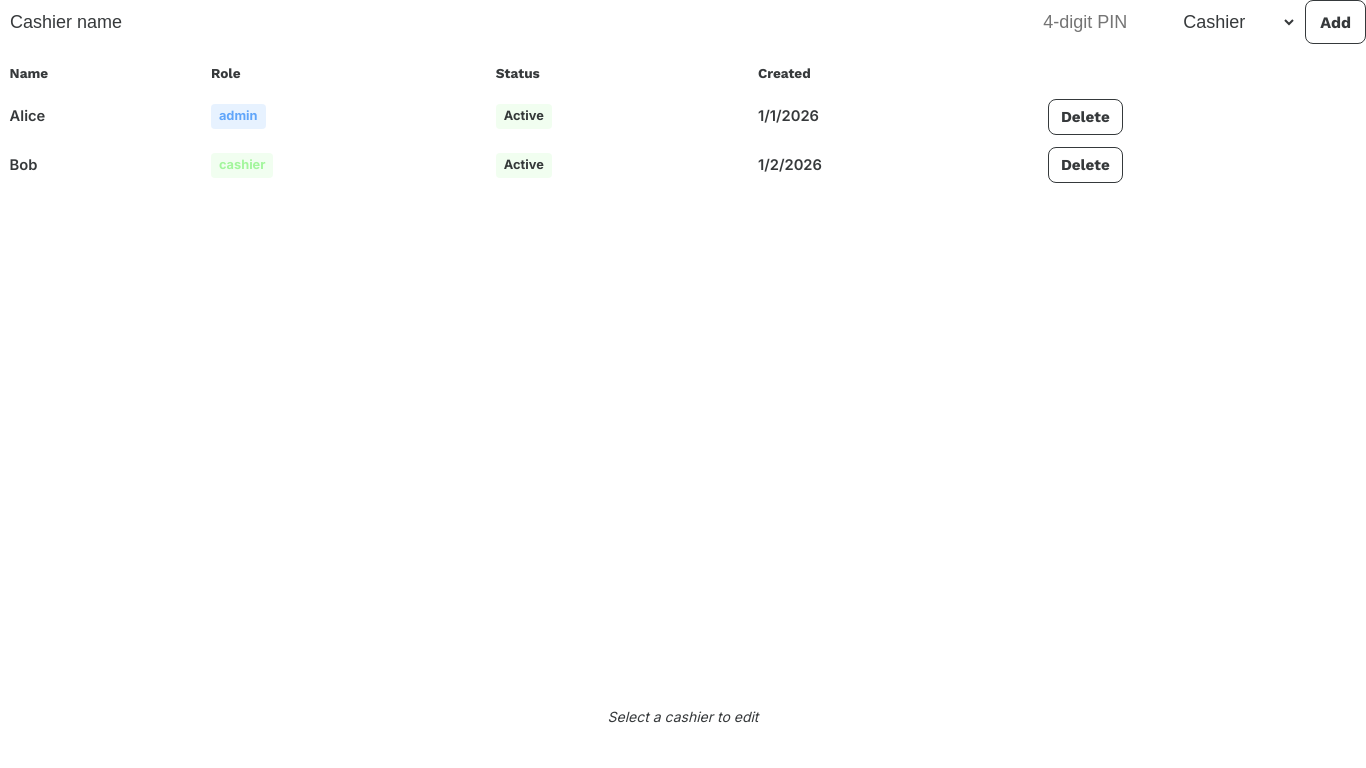
CashierPanel › opens delete confirmation dialog
Expected: the text "Alice" is shown, [0,92,201,141]
# Click the Delete button in Alice's row
Step 1. Click the button "Delete" in the row of "Alice" → {"x": 1085, "y": 116}, box [1048,98,1123,134]
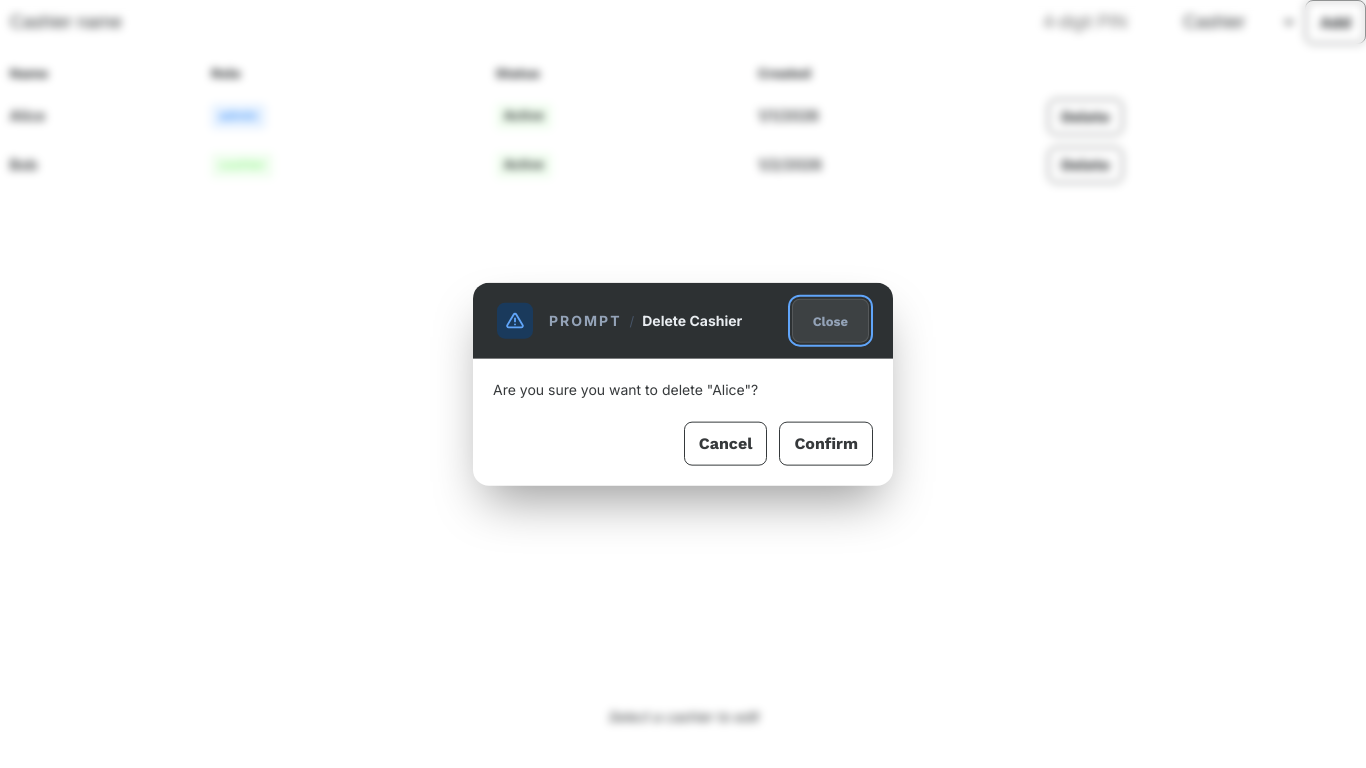
Expected: the text "Delete Cashier" is shown, [642,309,742,332]
